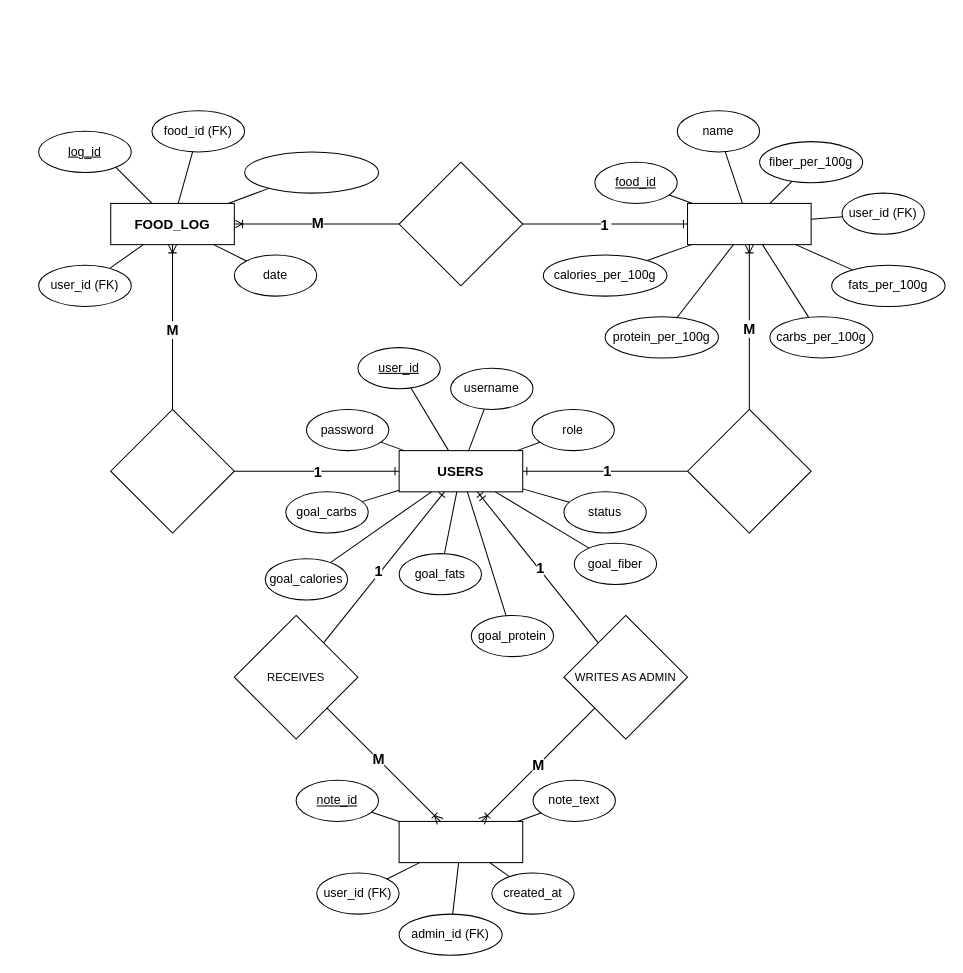
Some shapes in this 963 by 973 pixel diagram are drawn without their labels. Here are the shapes that lost their labels. From the top down, the box of each, then its label:
(244, 151, 379, 193): grams_consumed
(398, 161, 523, 286): USED IN
(686, 202, 811, 245): FOOD
(110, 408, 234, 533): CREATES
(686, 408, 811, 533): OWNS
(398, 820, 523, 863): Note
